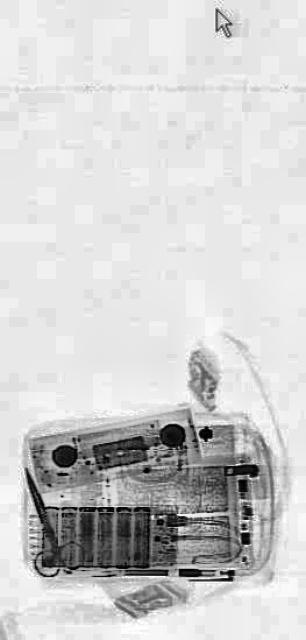Scissors: (7, 442, 84, 606)
